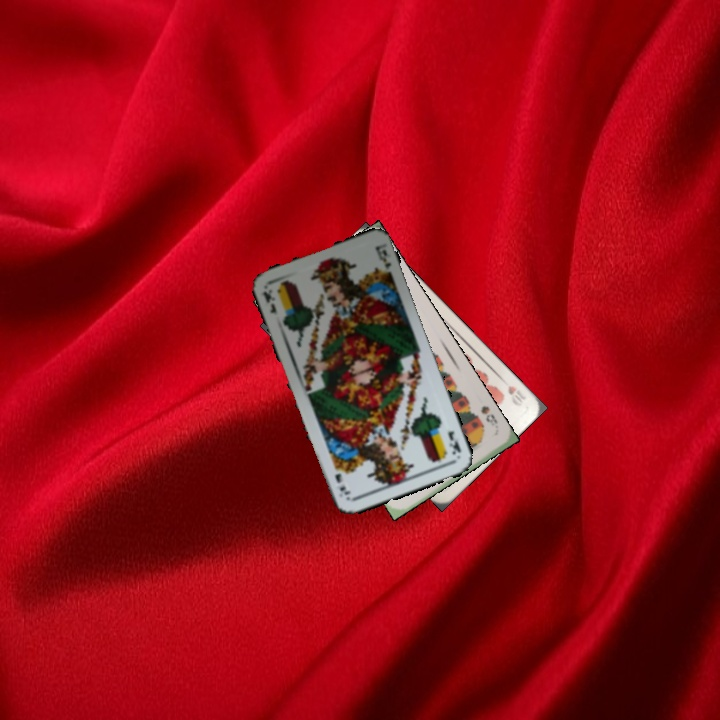EK: (259, 285, 280, 317), (444, 426, 464, 457)
H10: (504, 382, 529, 405)
S8: (476, 401, 500, 429)
